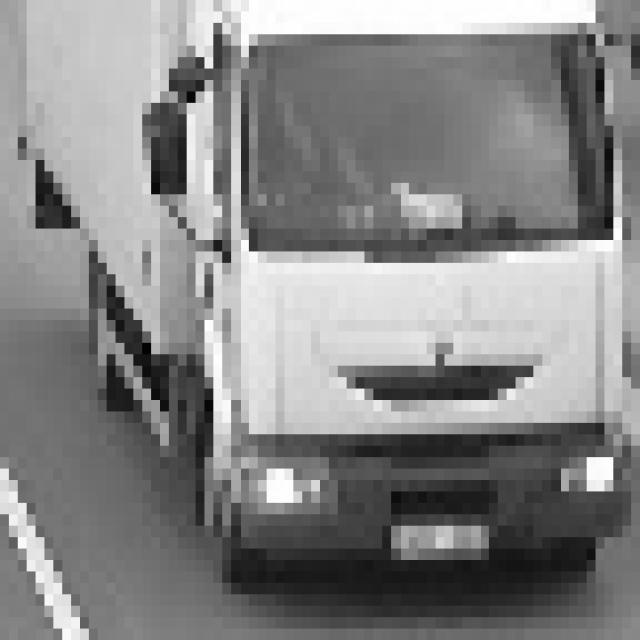truck: (160, 1, 632, 561)
